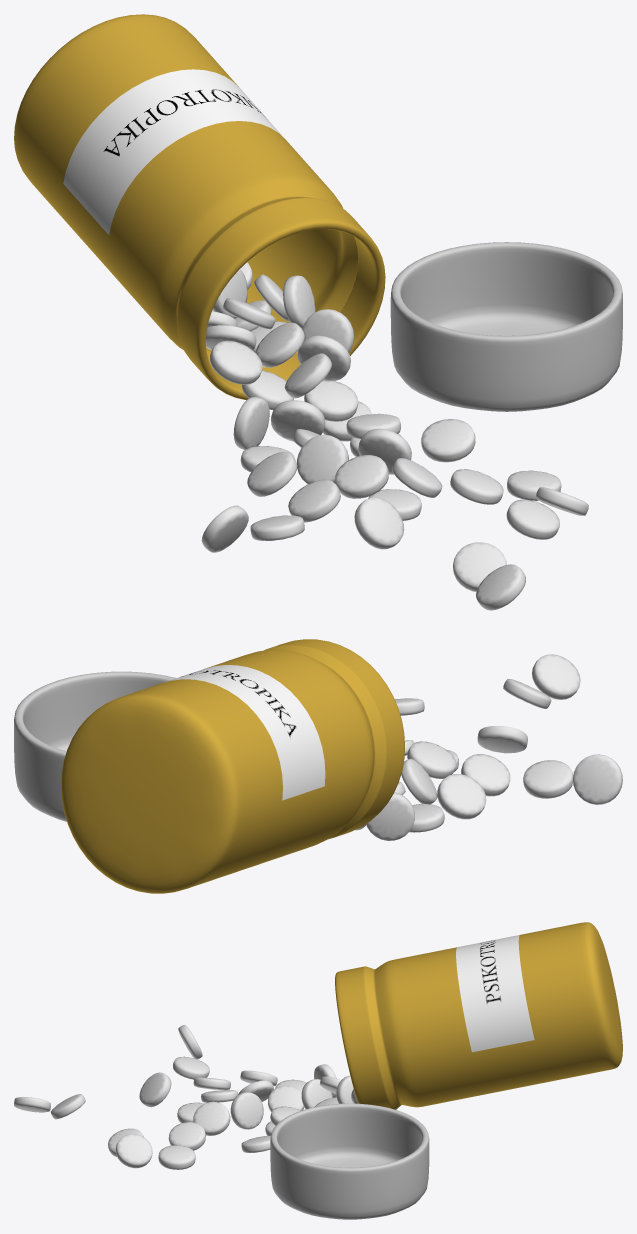
Rendered from Psikotropika.fbx.
3 views of the same model, one above another, from view 1: azimuth 30°, elevation 25°; view 2: azimuth 150°, elevation 25°; view 3: azimuth 270°, elevation 25° (orthographic). The views are drawn at different scales.
Visible parts, largest first — view 1: psikotropika.botol, psikotropika, psikotropika.tutupbotol; view 2: psikotropika.botol, psikotropika, psikotropika.tutupbotol; view 3: psikotropika.botol, psikotropika.tutupbotol, psikotropika.
Boxes of the visible parts, box(x1,y1,x2,y2) form: psikotropika.botol: box(14, 14, 385, 399); psikotropika: box(201, 262, 588, 610); psikotropika.tutupbotol: box(390, 242, 622, 411); psikotropika.botol: box(61, 639, 404, 893); psikotropika: box(355, 654, 622, 840); psikotropika.tutupbotol: box(14, 671, 176, 821); psikotropika.botol: box(335, 922, 622, 1109); psikotropika.tutupbotol: box(270, 1103, 429, 1219); psikotropika: box(14, 1025, 357, 1169).
Size of the model in its own units: 527 by 278 by 778.
